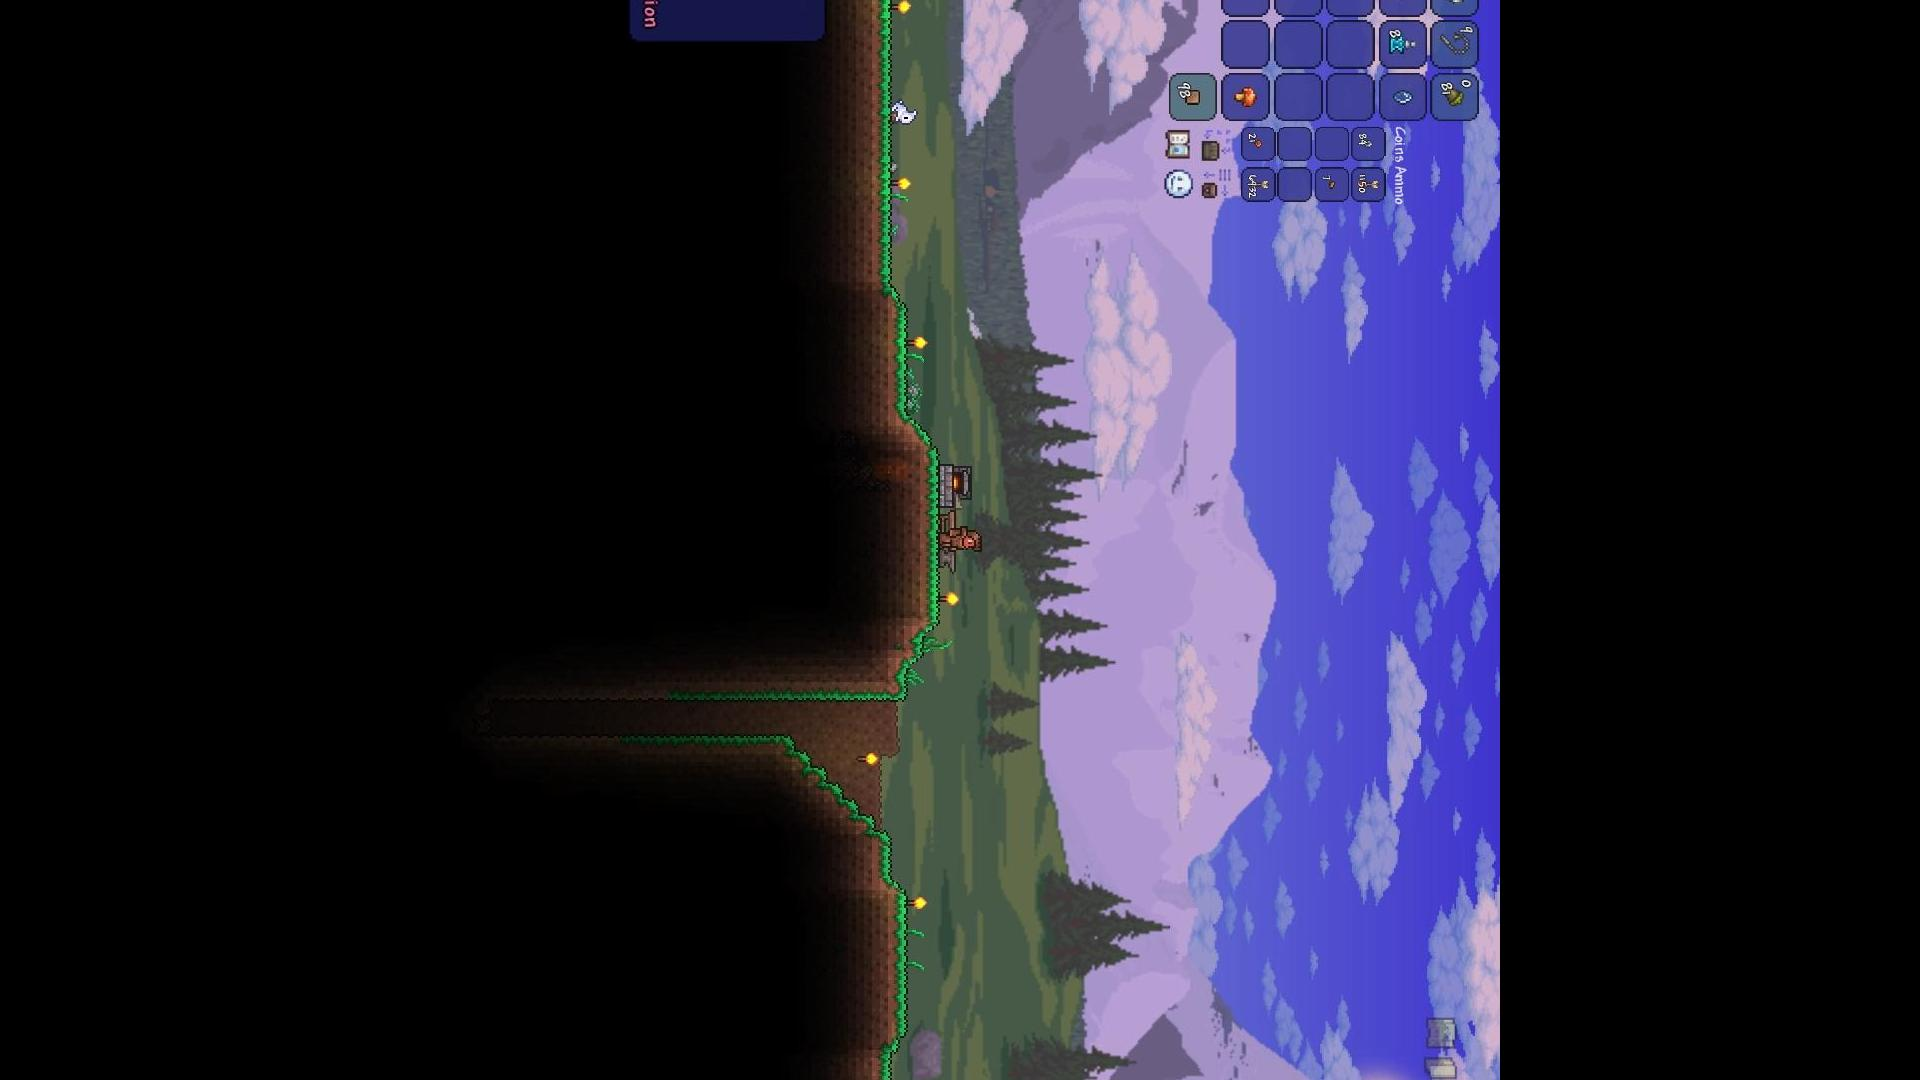anvil: (935, 546, 961, 579)
furnace: (935, 463, 981, 510)
recallP: (1386, 36, 1419, 55)
